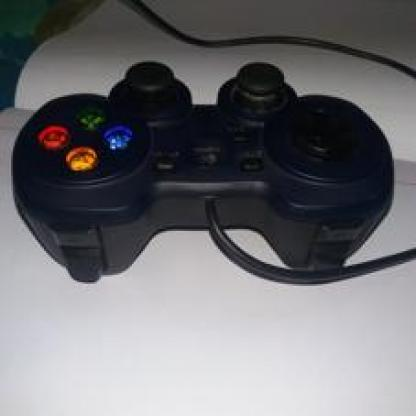gamepad: (9, 48, 393, 318)
